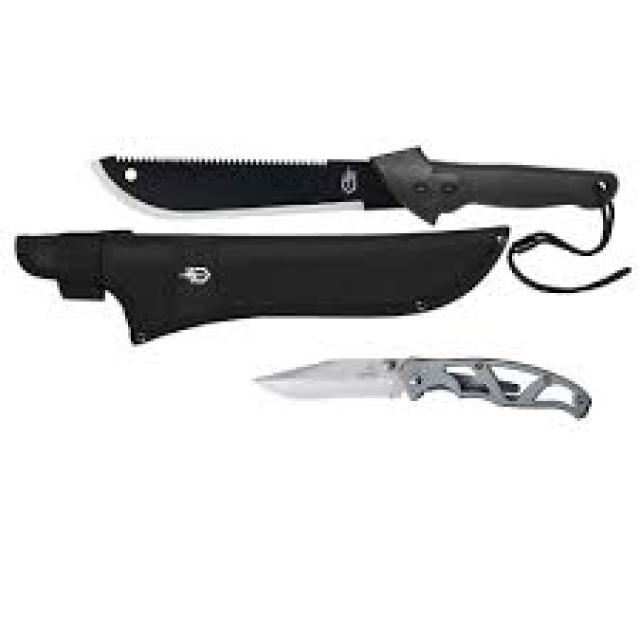knives: (9, 222, 512, 350)
